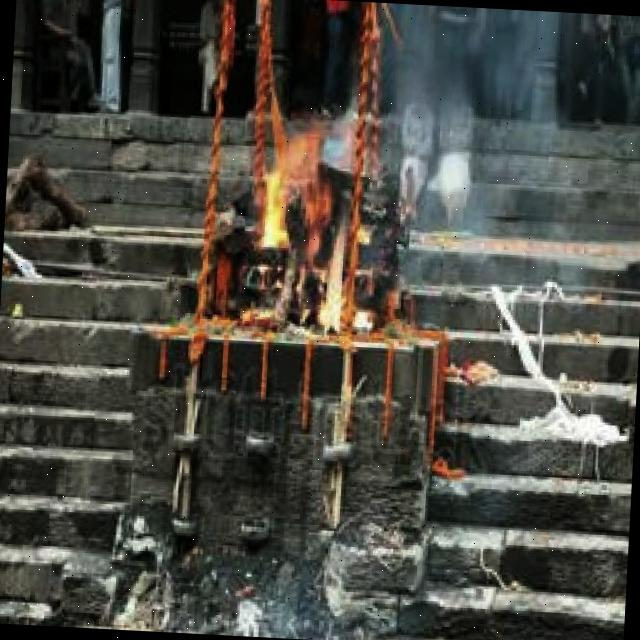fire: (248, 110, 362, 337)
